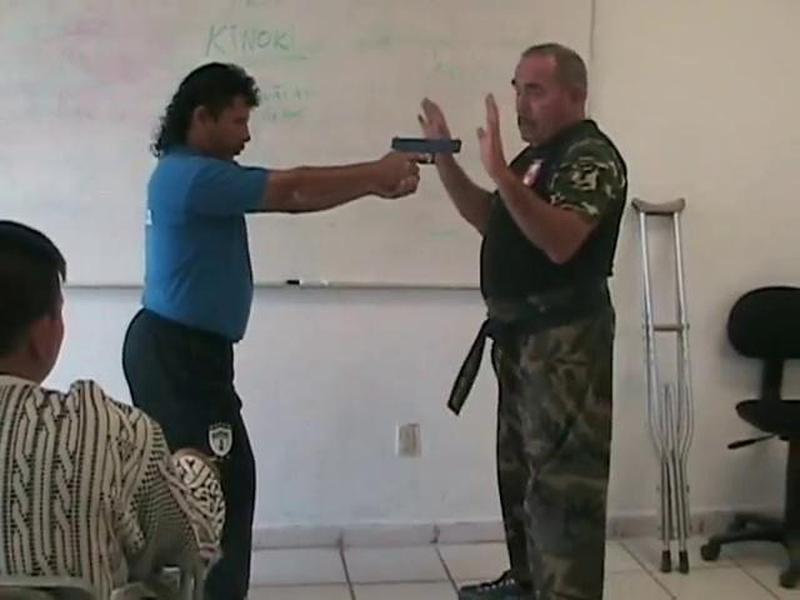Pistola: (387, 117, 462, 194)
